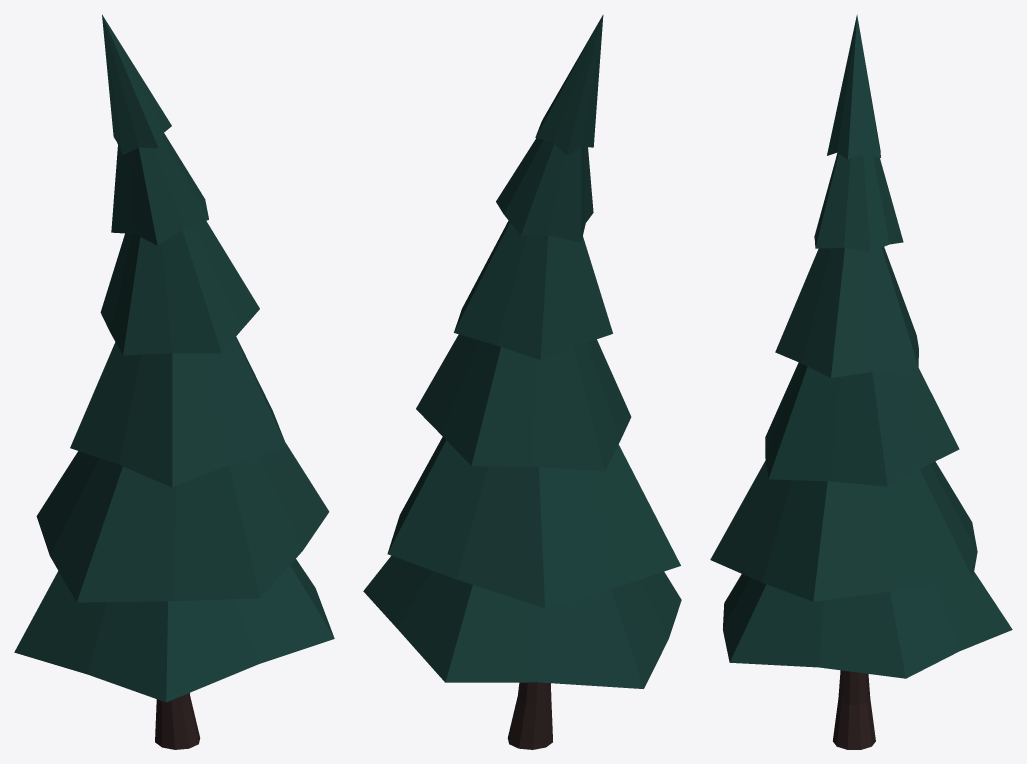
File: PineTree_High.fbx
3 renders of one model, left to right at view 1: azimuth 30°, elevation 25°; view 2: azimuth 150°, elevation 25°; view 3: azimuth 270°, elevation 25°, orthographic. The views are drawn at different scales.
Parts seen in each view (by area): view 1: Cylinder.001; view 2: Cylinder.001; view 3: Cylinder.001.
Boxes of the visible parts, box(x1,y1,x2,y2) form: Cylinder.001: box(14, 14, 334, 749); Cylinder.001: box(363, 14, 681, 749); Cylinder.001: box(710, 14, 1012, 749).
Size of the model in its own units: 346 by 887 by 351.
